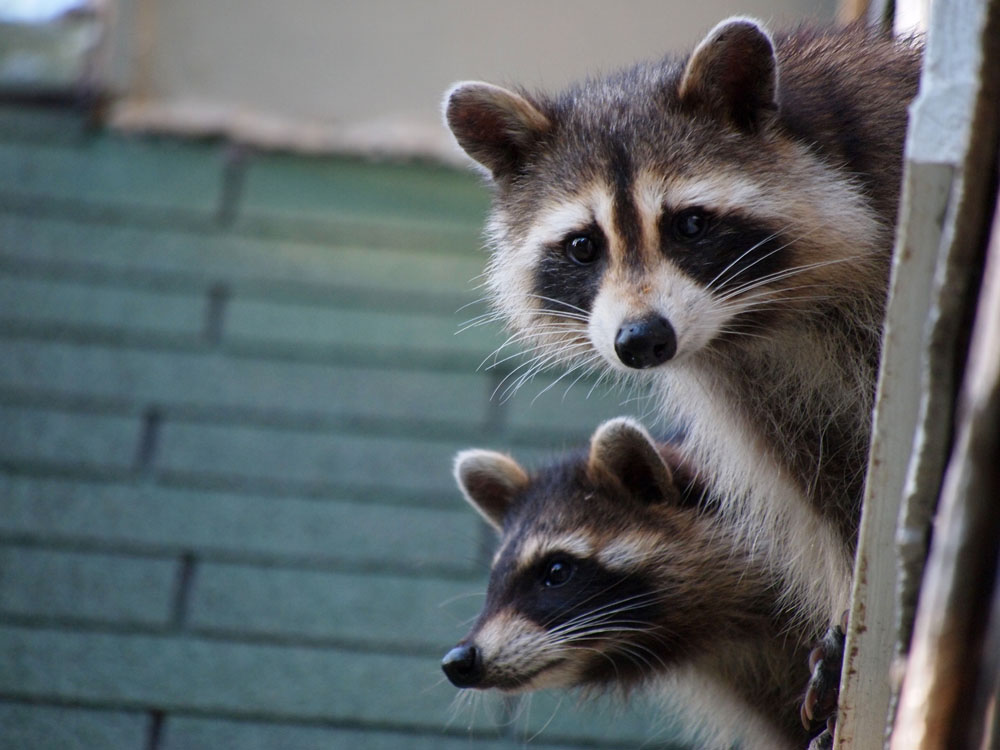raccoon: (433, 6, 999, 750), (410, 411, 818, 749)
